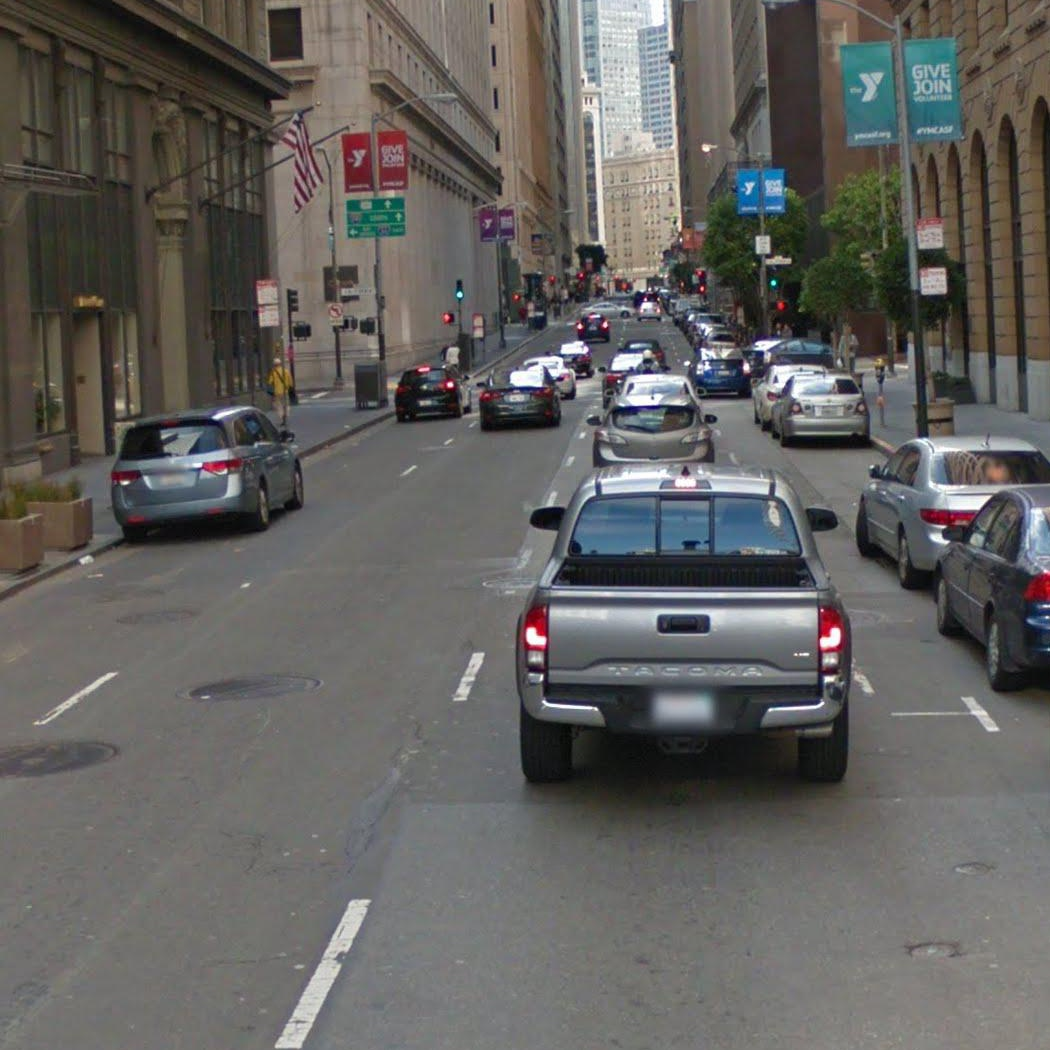No Parking: (915, 217, 944, 251), (919, 266, 948, 296), (256, 278, 279, 305), (258, 305, 279, 328)
